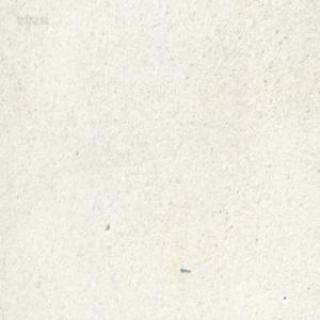Nailtrack_idkeyframe: (178, 263, 190, 272)
